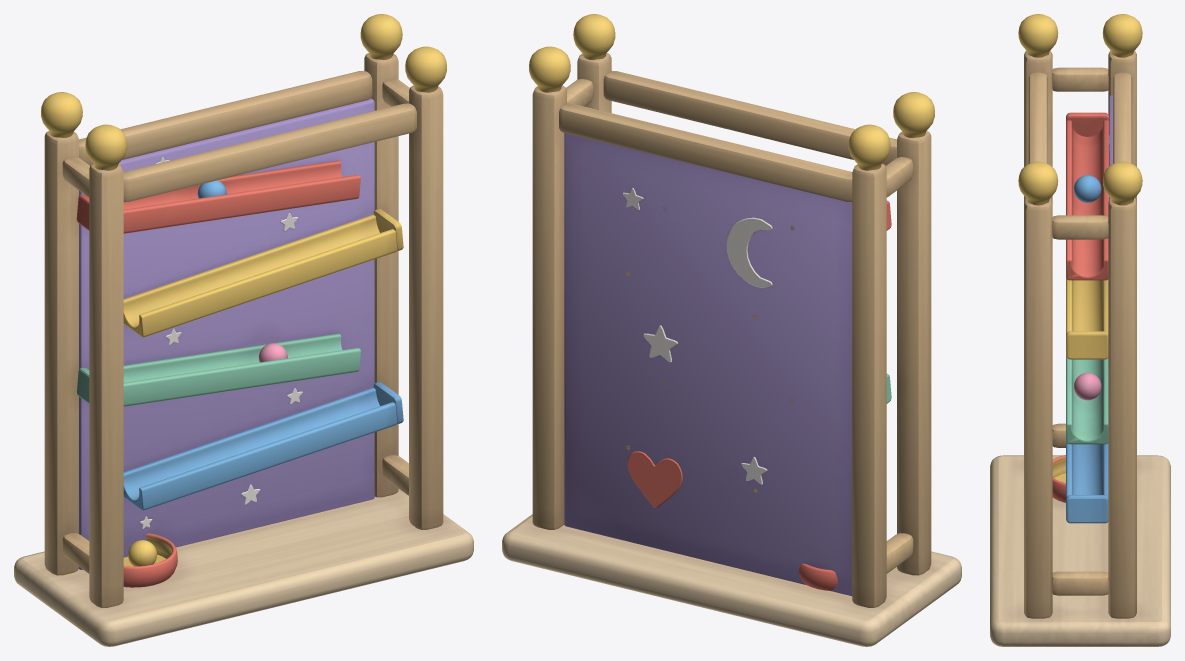
The model's file is circuito_canicas.glb.
3 renders of one model, left to right at view 1: azimuth 30°, elevation 25°; view 2: azimuth 150°, elevation 25°; view 3: azimuth 270°, elevation 25°, orthographic. The views are drawn at different scales.
Parts seen in each view (by area): view 1: marble-run_body; view 2: marble-run_body; view 3: marble-run_body.
Part boxes in pixels (x1,y1,x2,y2): marble-run_body: (14,14,473,646); marble-run_body: (502,14,961,646); marble-run_body: (990,14,1170,646).
Size of the model in its own units: 0.34 by 0.4325 by 0.15.
1 material, 1 textured.
